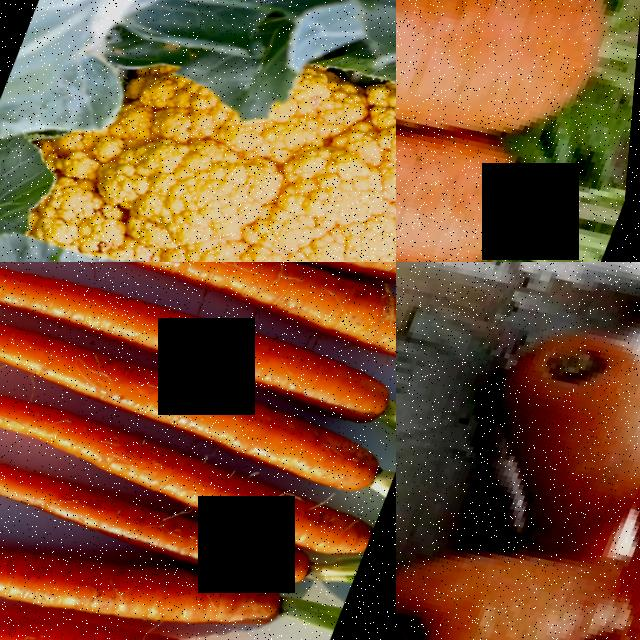carrot: (0, 348, 388, 640), (0, 297, 373, 552), (0, 409, 360, 640), (0, 262, 353, 486), (0, 262, 379, 429), (417, 298, 640, 562), (0, 262, 396, 401), (396, 0, 640, 221), (396, 22, 614, 262), (0, 467, 300, 640), (396, 470, 640, 640), (0, 262, 396, 319), (396, 145, 572, 262)
cauliflower: (0, 0, 396, 262)
